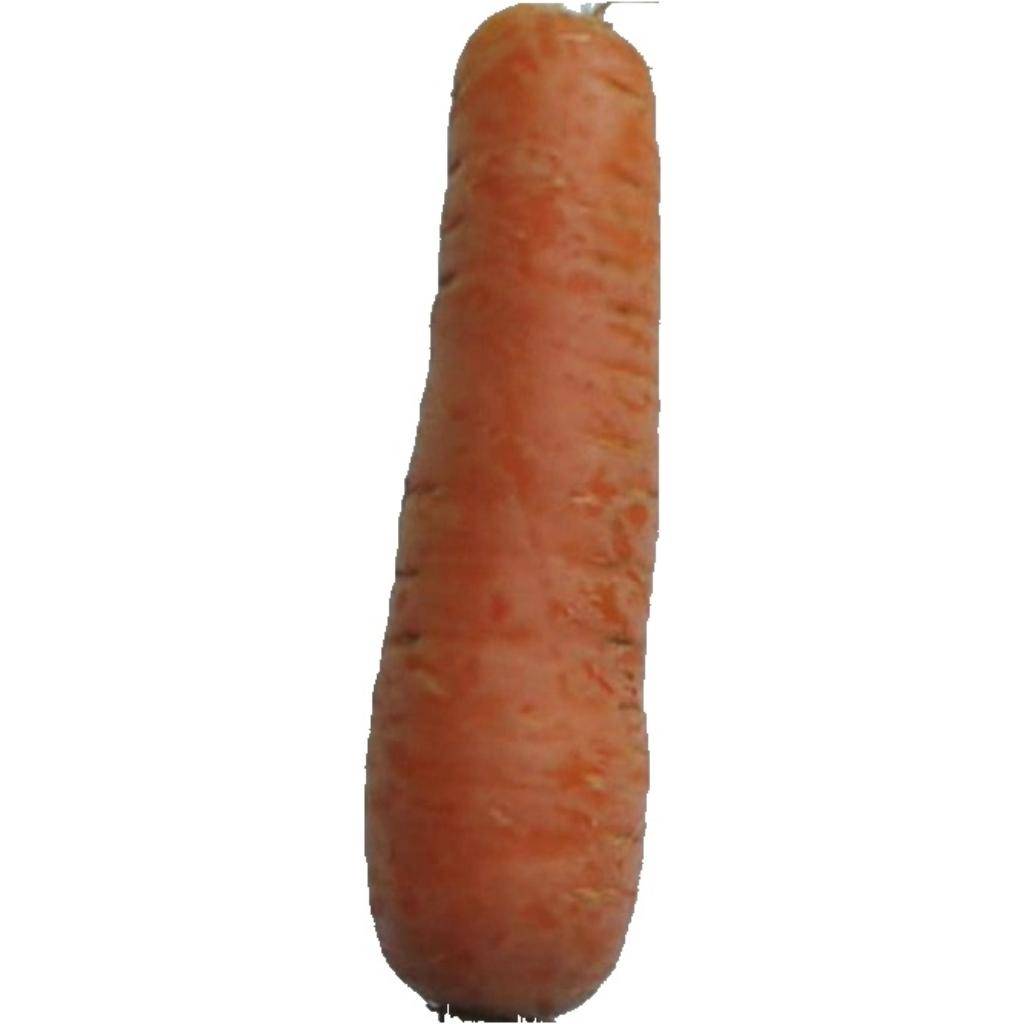carrot: (366, 4, 658, 1020)
